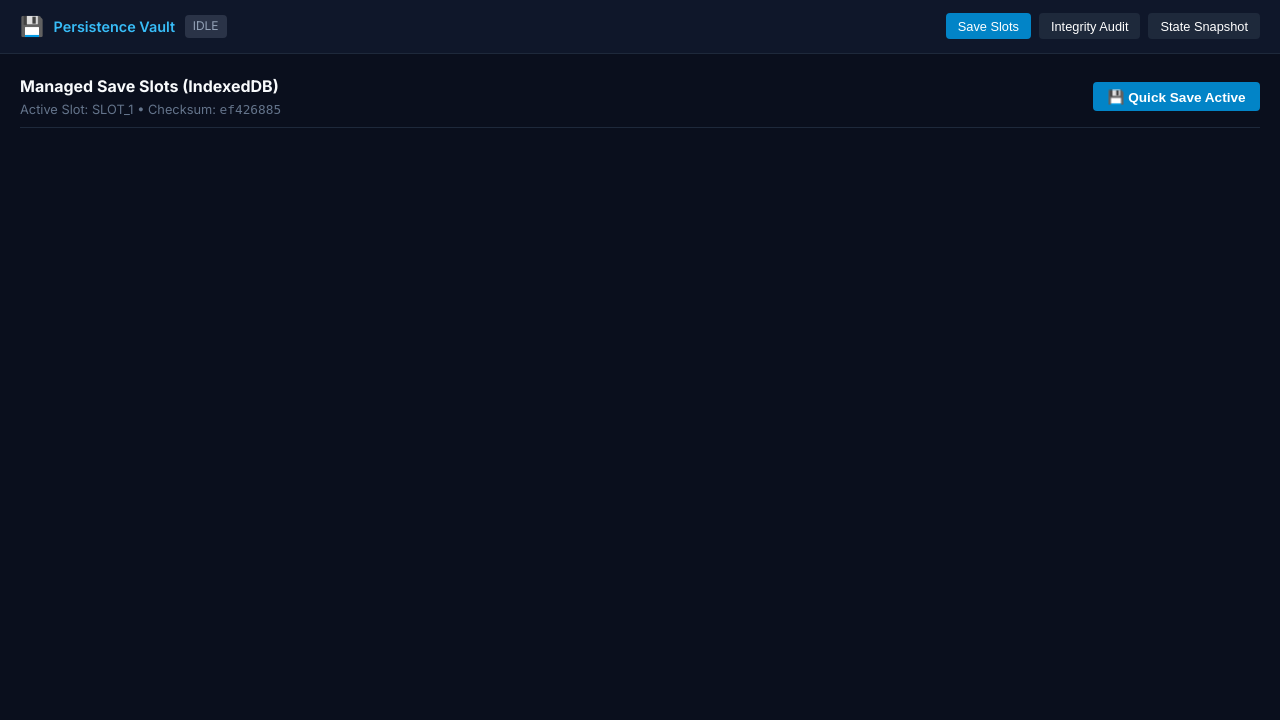
Test: SaveManagerApp Desktop Component › performs quick save from app
Click the button with test id "btn-app-quicksave". click: coordinates (1177, 97)
box: [1093,82,1260,111]
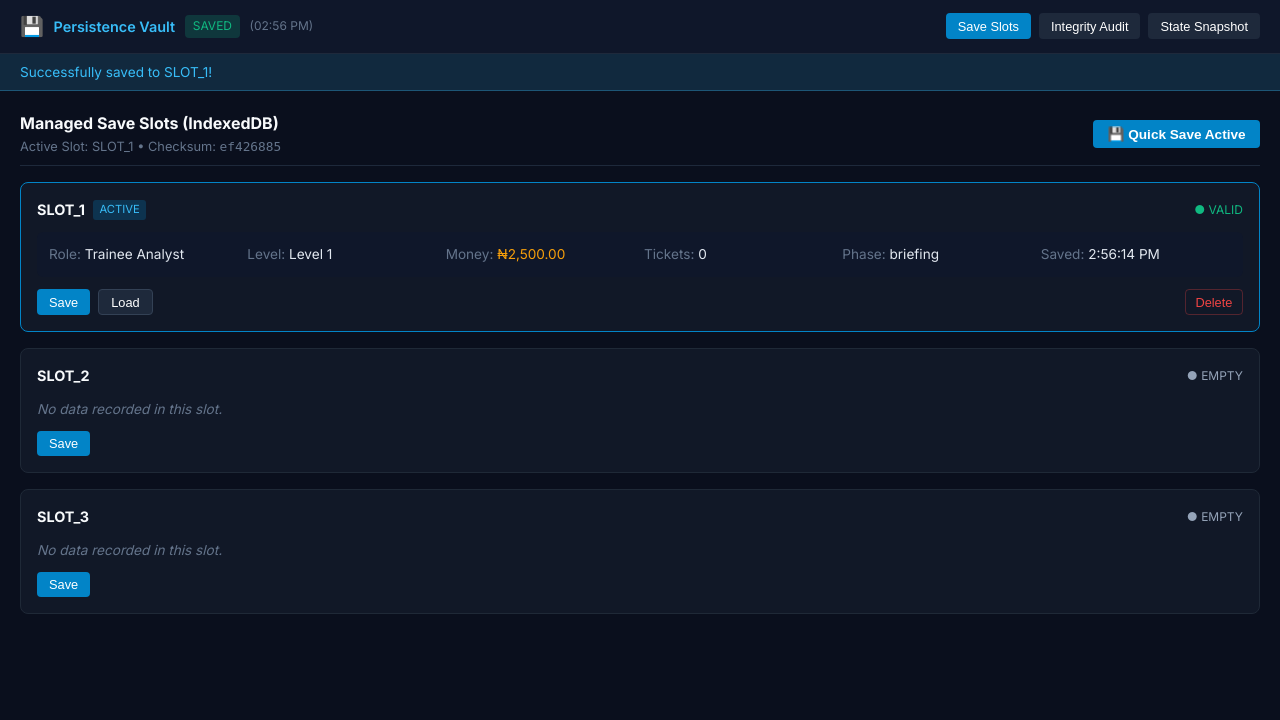
Expected: the text with test id "app-save-status-badge" reads "SAVED", [193,18,232,33]
Expected: the text with test id "app-slot-badge-slot_1" reads "● VALID", [1194,201,1243,219]
